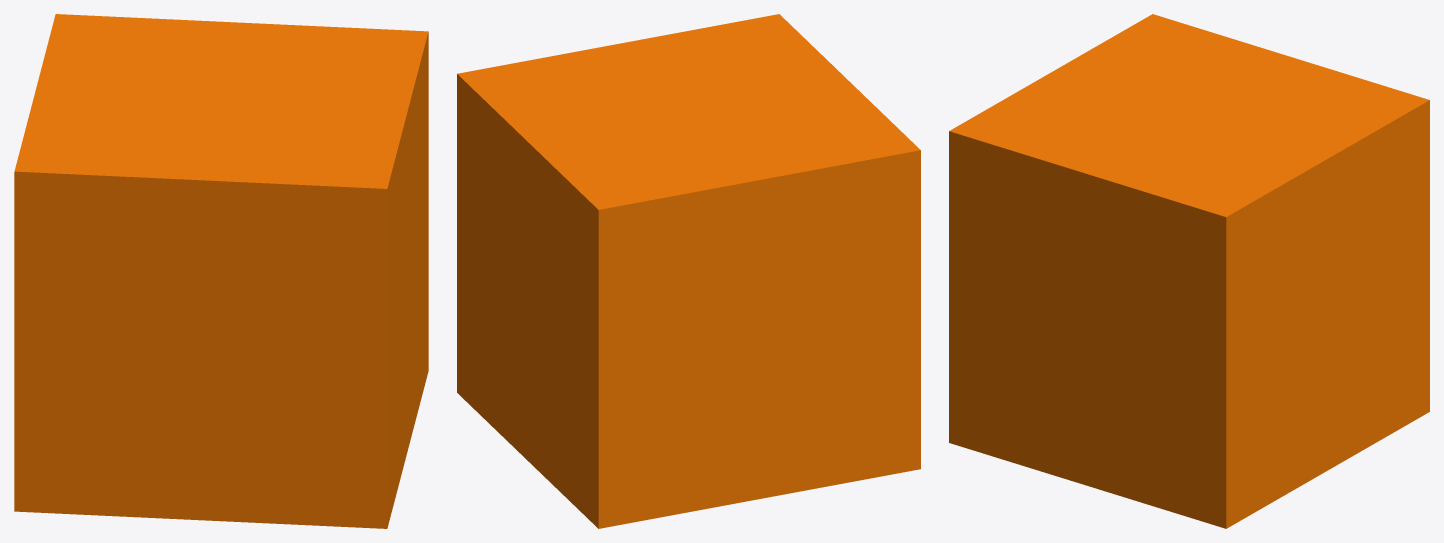
3 views of the same model, side by side, from view 1: azimuth 30°, elevation 25°; view 2: azimuth 150°, elevation 25°; view 3: azimuth 270°, elevation 25° (orthographic). The views are drawn at different scales.
Parts seen in each view (by area): view 1: BOX; view 2: BOX; view 3: BOX.
Boxes of the visible parts, x1,y1,x2,y2 form: BOX: (14, 14, 428, 528); BOX: (457, 14, 920, 528); BOX: (949, 14, 1429, 528).
Bounding box in the file's own units: 1.82 × 1.3 × 1.82.
